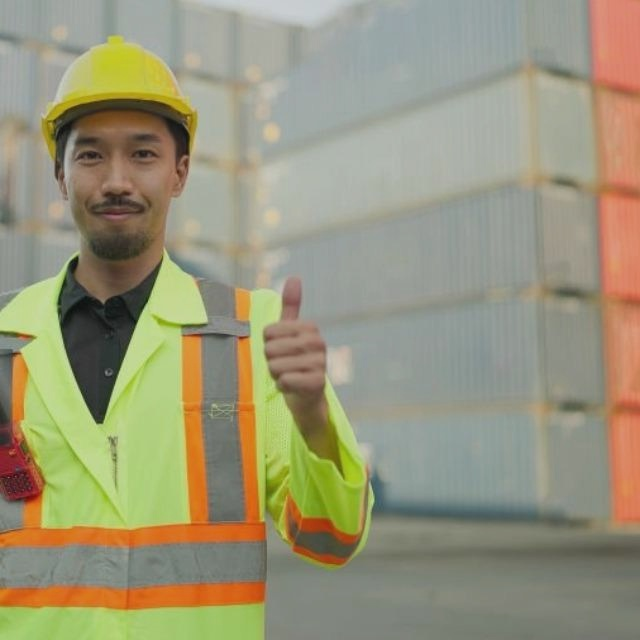Con_Casco: (42, 34, 198, 260)
Con_Chaleco: (4, 260, 270, 640)
